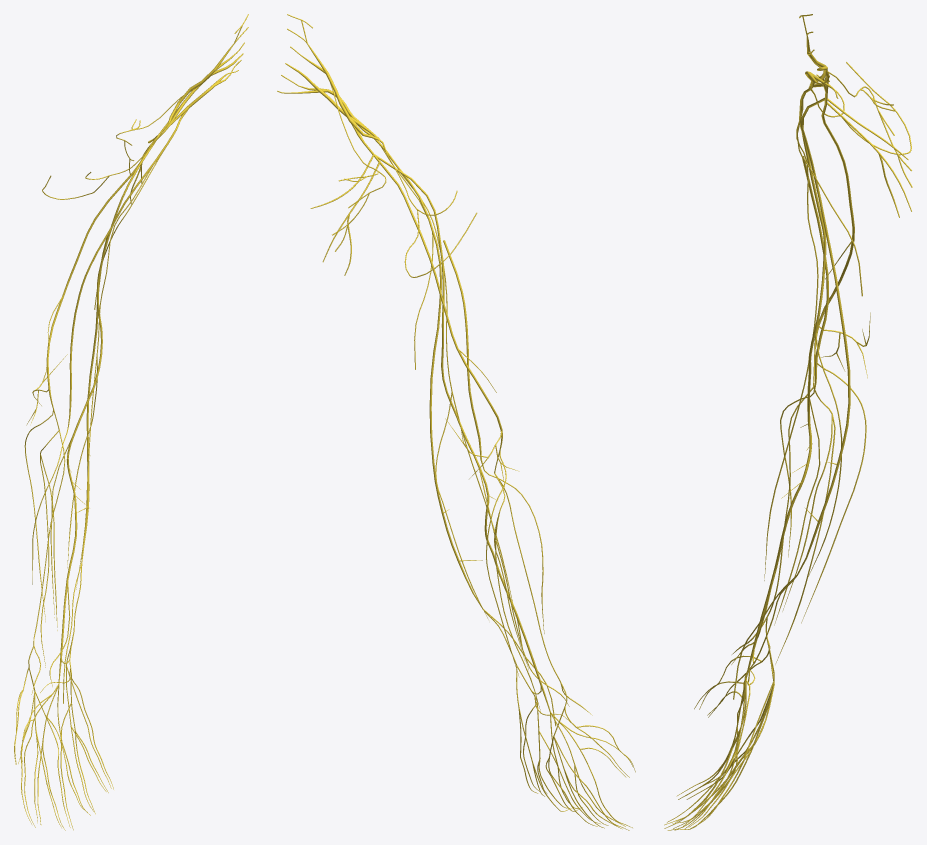
Rendered from nerves.glb.
The picture shows the model from 3 angles, left to right: view 1: azimuth 30°, elevation 25°; view 2: azimuth 150°, elevation 25°; view 3: azimuth 270°, elevation 25°; orthographic projection. The views are drawn at different scales.
Parts seen in each view (by area): view 1: Median nerve.r.001, Dorsal digital branches of radial nerve.r.001, Ulnar nerve.r.001, Proper palmar digital branches of median nerve.r.001, Radial nerve.r.001, Superficial branch of radial nerve.r.001, Musculocutaneous nerve.r.001, Roots of brachial plexus.r.001; view 2: Median nerve.r.001, Ulnar nerve.r.001, Dorsal digital branches of radial nerve.r.001, Radial nerve.r.001, Proper palmar digital branches of median nerve.r.001; view 3: Median nerve.r.001, Ulnar nerve.r.001, Dorsal digital branches of radial nerve.r.001, Radial nerve.r.001, Proper palmar digital branches of median nerve.r.001, Musculocutaneous nerve.r.001, Proper palmar digital branches of ulnar nerve.r.001, Superficial branch of radial nerve.r.001, Suprascapular nerve.r.001, Posterior antebrachial cutaneous nerve.r.001, Deep branch of radial nerve.r.001.
Boxes of the visible parts, x1,y1,x2,y2 form: Median nerve.r.001: [58, 134, 160, 683]; Dorsal digital branches of radial nerve.r.001: [14, 689, 87, 827]; Ulnar nerve.r.001: [73, 128, 176, 630]; Proper palmar digital branches of median nerve.r.001: [18, 694, 90, 830]; Radial nerve.r.001: [46, 145, 150, 430]; Superficial branch of radial nerve.r.001: [23, 430, 65, 694]; Musculocutaneous nerve.r.001: [67, 224, 113, 427]; Roots of brachial plexus.r.001: [211, 14, 248, 86]; Median nerve.r.001: [374, 154, 550, 712]; Ulnar nerve.r.001: [374, 139, 517, 665]; Dorsal digital branches of radial nerve.r.001: [545, 725, 635, 830]; Radial nerve.r.001: [383, 166, 502, 473]; Proper palmar digital branches of median nerve.r.001: [557, 722, 632, 827]; Median nerve.r.001: [746, 97, 826, 677]; Ulnar nerve.r.001: [766, 92, 850, 636]; Dorsal digital branches of radial nerve.r.001: [672, 655, 774, 828]; Radial nerve.r.001: [813, 105, 854, 387]; Proper palmar digital branches of median nerve.r.001: [664, 681, 743, 828]; Musculocutaneous nerve.r.001: [802, 156, 829, 393]; Proper palmar digital branches of ulnar nerve.r.001: [667, 677, 750, 830]; Superficial branch of radial nerve.r.001: [732, 387, 813, 683]; Suprascapular nerve.r.001: [811, 58, 912, 187]; Posterior antebrachial cutaneous nerve.r.001: [801, 355, 866, 623]; Deep branch of radial nerve.r.001: [775, 388, 835, 664].
Size of the model in its own units: 0.3207 by 0.803 by 0.1877.
